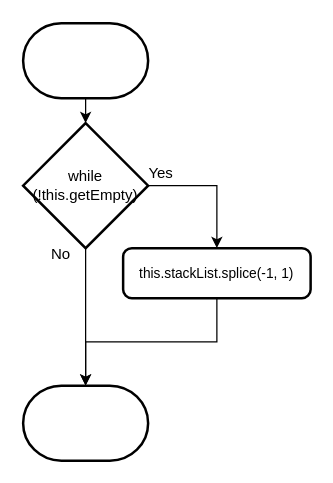
This 333x483 diagram has some shape labels left out. The box of each missing label's shape, as (x1, y1, x2, y2) in pixels:
Start: (21, 21, 149, 99)
Stop: (21, 384, 149, 461)
